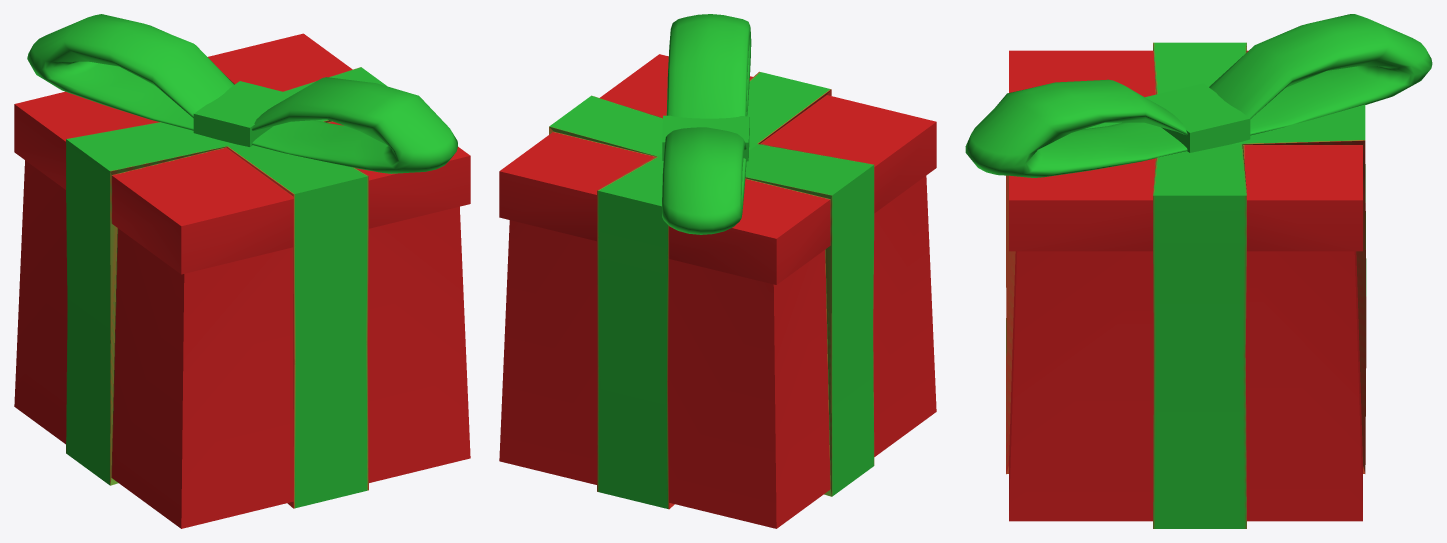
File: Present_1.fbx
3 views of the same model, side by side, from view 1: azimuth 30°, elevation 25°; view 2: azimuth 150°, elevation 25°; view 3: azimuth 270°, elevation 25° (orthographic). The views are drawn at different scales.
Parts seen in each view (by area): view 1: pCube3; view 2: pCube3; view 3: pCube3.
Boxes of the visible parts, x1,y1,x2,y2 form: pCube3: (14,14,470,528); pCube3: (499,14,936,528); pCube3: (965,14,1432,528).
Bounding box in the file's own units: 128 × 155 × 165.
